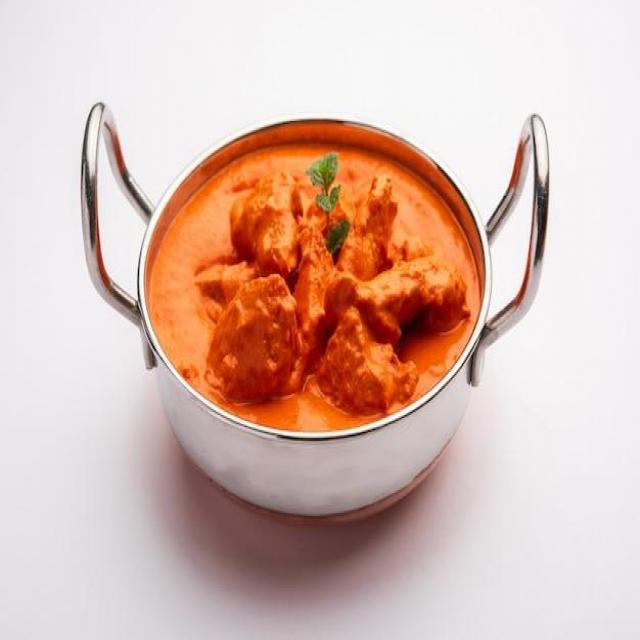chicken: (160, 152, 475, 416)
